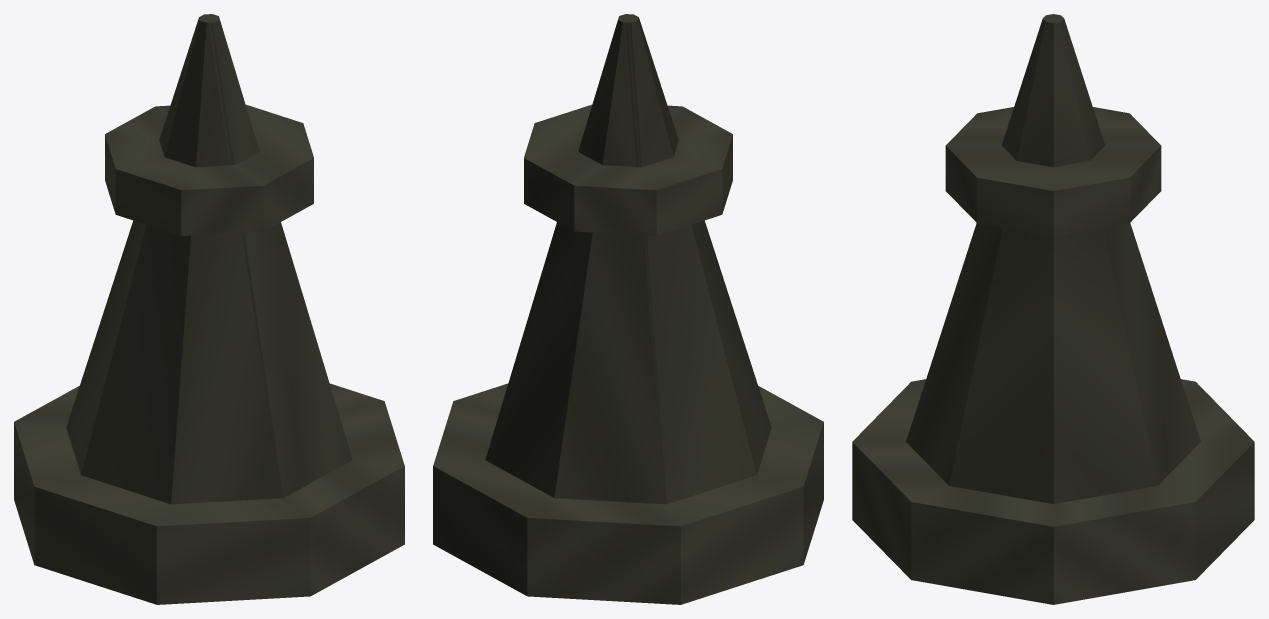
The model's file is prop_traffic_cone_reflective_a.glb.
3 renders of one model, left to right at view 1: azimuth 30°, elevation 25°; view 2: azimuth 150°, elevation 25°; view 3: azimuth 270°, elevation 25°, orthographic.
Parts seen in each view (by area): view 1: prop_traffic_cone_reflective_a; view 2: prop_traffic_cone_reflective_a; view 3: prop_traffic_cone_reflective_a.
Part boxes in pixels (box(x1,y1,x2,y2)): prop_traffic_cone_reflective_a: box(14, 14, 404, 604); prop_traffic_cone_reflective_a: box(433, 14, 823, 604); prop_traffic_cone_reflective_a: box(852, 14, 1254, 604).
Bounding box in the file's own units: 0.56 × 0.77 × 0.56.
1 material, 1 textured.
